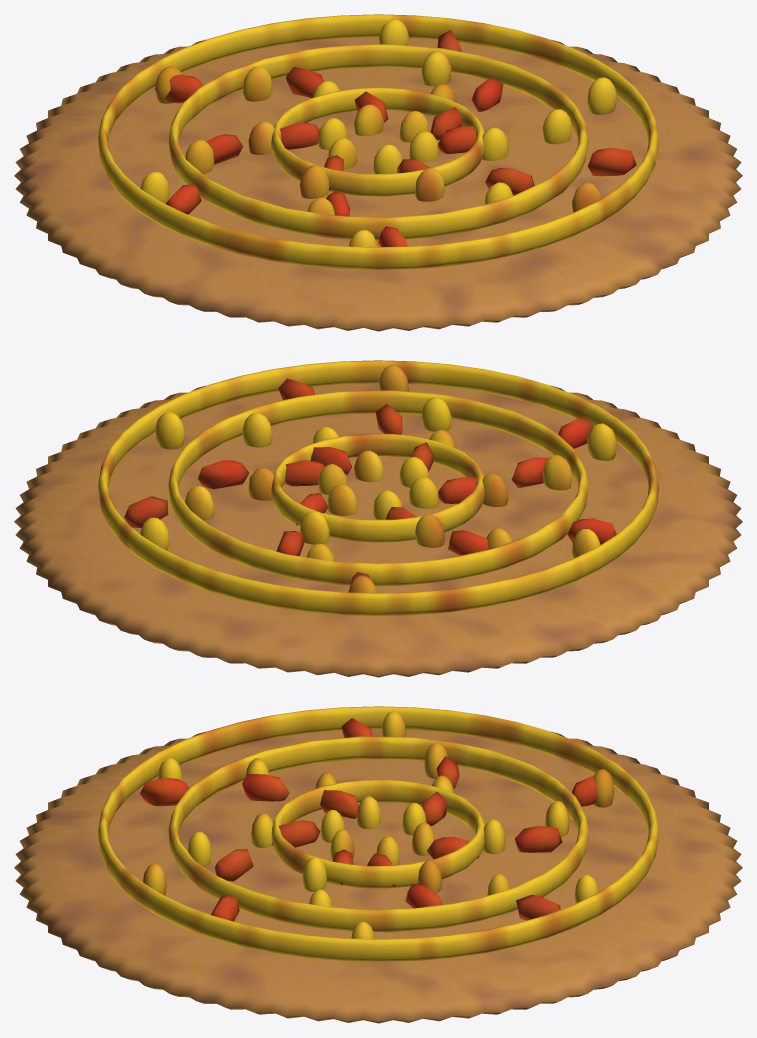
The model's file is peri-peri-fiesta-pizza-balanced.glb.
3 renders of one model, top to bottom at view 1: azimuth 30°, elevation 25°; view 2: azimuth 150°, elevation 25°; view 3: azimuth 270°, elevation 25°, orthographic.
Visible parts, largest first — view 1: Mesh_Artisan_Pizza_Crust, Mesh_Fiesta_Corn_Chili_And_Aioli, Mesh_Peri_Peri_Chicken_Strips; view 2: Mesh_Artisan_Pizza_Crust, Mesh_Fiesta_Corn_Chili_And_Aioli, Mesh_Peri_Peri_Chicken_Strips; view 3: Mesh_Artisan_Pizza_Crust, Mesh_Fiesta_Corn_Chili_And_Aioli, Mesh_Peri_Peri_Chicken_Strips.
Part boxes in pixels (x1,y1,x2,y2): Mesh_Artisan_Pizza_Crust: (14,37,742,331); Mesh_Fiesta_Corn_Chili_And_Aioli: (98,14,658,270); Mesh_Peri_Peri_Chicken_Strips: (155,30,636,247); Mesh_Artisan_Pizza_Crust: (14,383,742,677); Mesh_Fiesta_Corn_Chili_And_Aioli: (98,360,658,616); Mesh_Peri_Peri_Chicken_Strips: (124,378,616,586); Mesh_Artisan_Pizza_Crust: (14,729,742,1023); Mesh_Fiesta_Corn_Chili_And_Aioli: (98,706,658,962); Mesh_Peri_Peri_Chicken_Strips: (140,718,597,921).
Size of the model in its own units: 2.4 by 0.28 by 2.4.
Materials: 4 (4 with a texture image).
